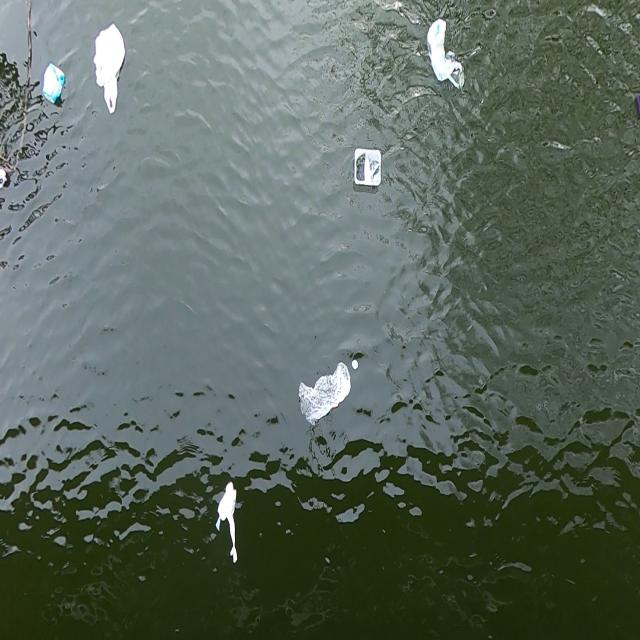Autre plastique: (351, 142, 385, 197)
Sac plastique: (422, 14, 470, 101), (297, 360, 353, 428), (93, 20, 129, 120), (211, 477, 244, 570)
